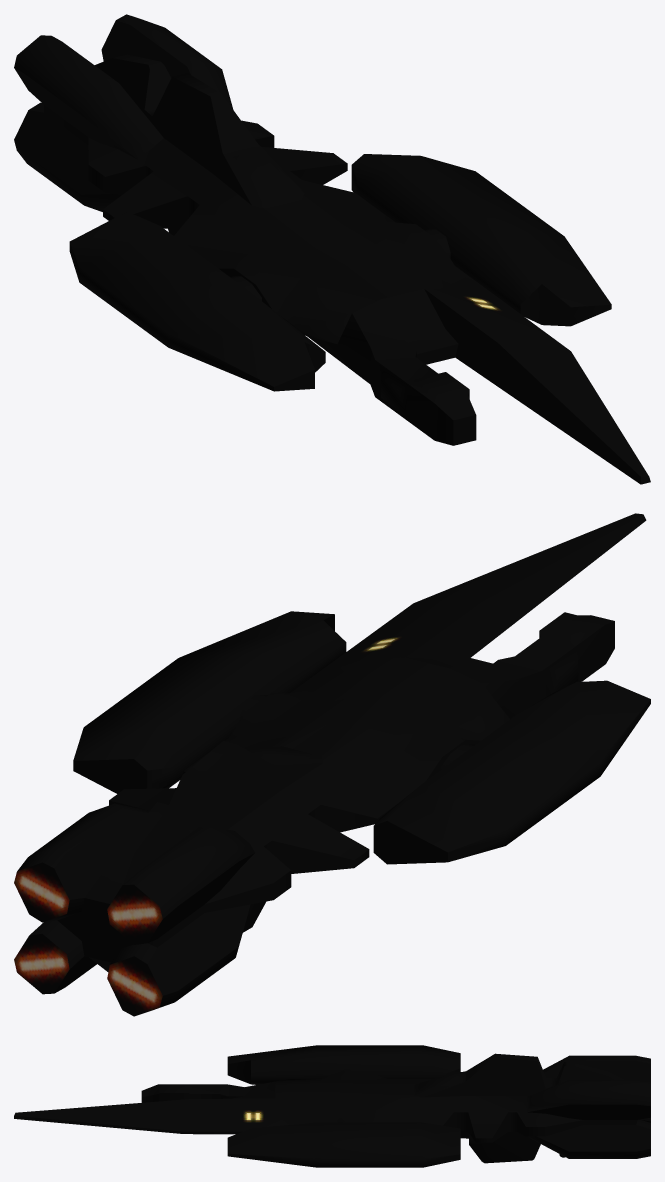
File: vgr_sf_plbo_01_t1.glb
The picture shows the model from 3 angles, top to bottom: view 1: azimuth 30°, elevation 25°; view 2: azimuth 150°, elevation 25°; view 3: azimuth 270°, elevation 25°; orthographic projection. The views are drawn at different scales.
Visible parts, largest first — view 1: vgr_plasma_bomber_01_LOD0; view 2: vgr_plasma_bomber_01_LOD0; view 3: vgr_plasma_bomber_01_LOD0.
Part boxes in pixels (left/top/right/bottom): vgr_plasma_bomber_01_LOD0: left=14, top=14, right=650, bottom=484; vgr_plasma_bomber_01_LOD0: left=14, top=513, right=650, bottom=1016; vgr_plasma_bomber_01_LOD0: left=14, top=1045, right=650, bottom=1167.
Size of what is drawn, in the model's own units: 0.2252 by 0.0962 by 0.5322.
1 material, 1 textured.
